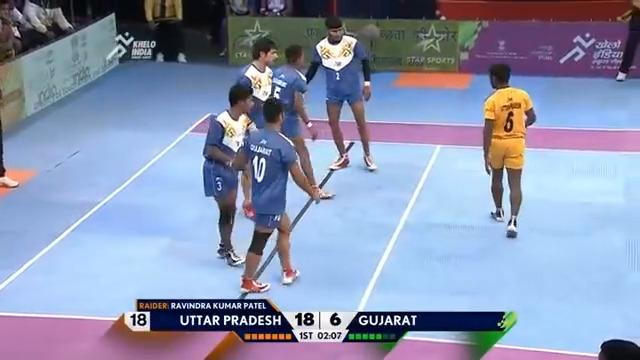Player: (231, 97, 320, 294), (303, 16, 378, 171), (201, 83, 257, 266), (269, 44, 333, 199), (235, 36, 279, 129), (614, 0, 639, 81)
Raider: (481, 62, 536, 237)
referee: (0, 1, 21, 188), (143, 0, 187, 63), (597, 338, 639, 359)
